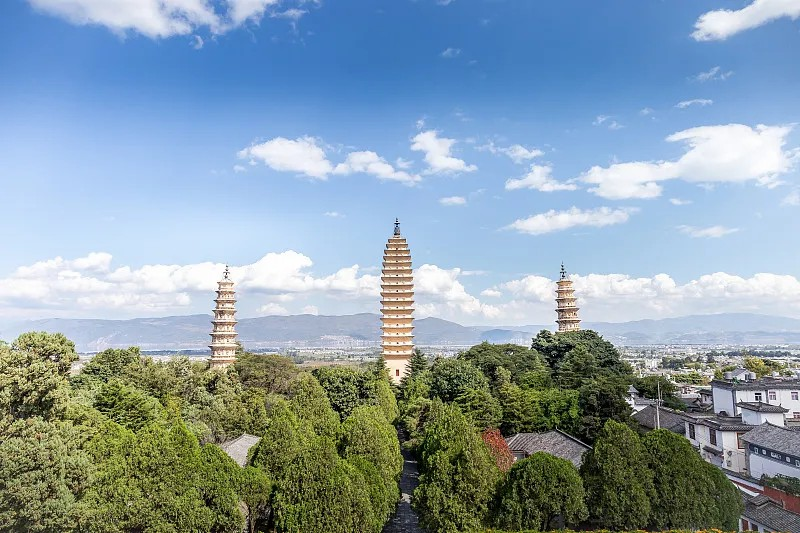ThreePagoda: (380, 219, 416, 383)
